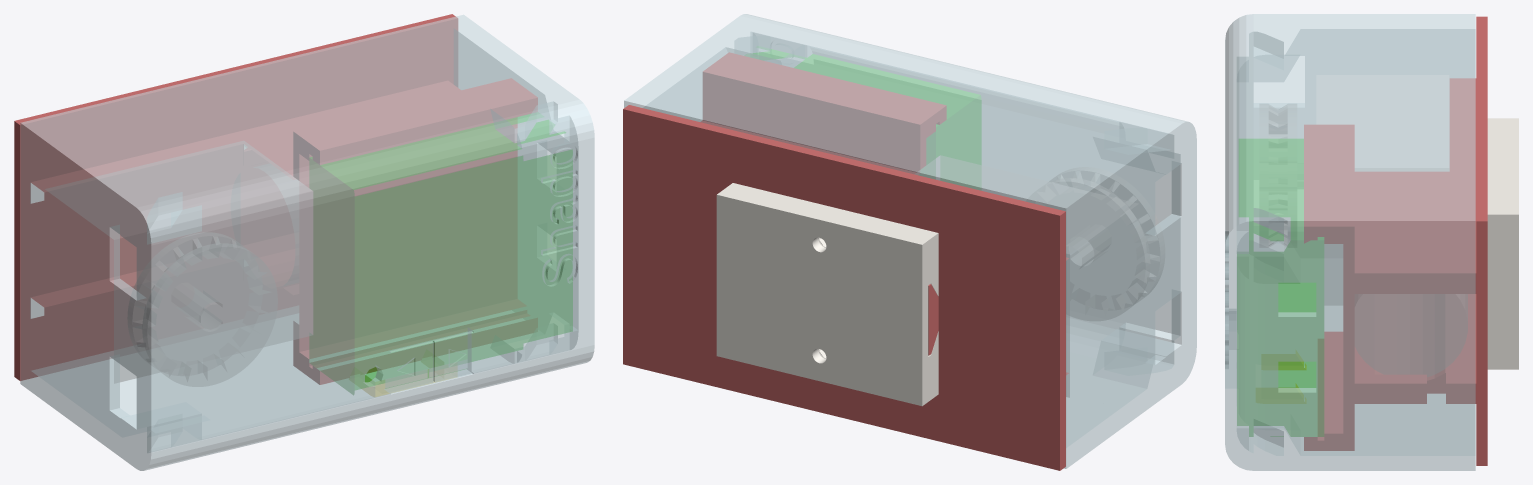
The model's file is frame.glb.
3 renders of one model, left to right at view 1: azimuth 30°, elevation 25°; view 2: azimuth 150°, elevation 25°; view 3: azimuth 270°, elevation 25°, orthographic. The views are drawn at different scales.
Parts seen in each view (by area): view 1: part_5, part_4, part_6, part_1; view 2: part_4, part_5, part_3, part_1, part_6; view 3: part_5, part_4, part_1, part_6, part_3.
Boxes of the visible parts, left/top/right/bottom form: part_5: left=20, top=14, right=594, bottom=470; part_4: left=14, top=14, right=537, bottom=384; part_6: left=310, top=114, right=572, bottom=394; part_1: left=45, top=141, right=312, bottom=386; part_4: left=623, top=52, right=1068, bottom=470; part_5: left=624, top=14, right=1196, bottom=468; part_3: left=716, top=183, right=938, bottom=406; part_1: left=916, top=156, right=1164, bottom=397; part_6: left=753, top=49, right=980, bottom=164; part_5: left=1225, top=14, right=1475, bottom=470; part_4: left=1304, top=16, right=1487, bottom=465; part_1: left=1260, top=75, right=1467, bottom=376; part_6: left=1237, top=139, right=1323, bottom=436; part_3: left=1487, top=118, right=1518, bottom=369.
Bounding box in the file's own units: 129 × 72.65 × 77.35.
